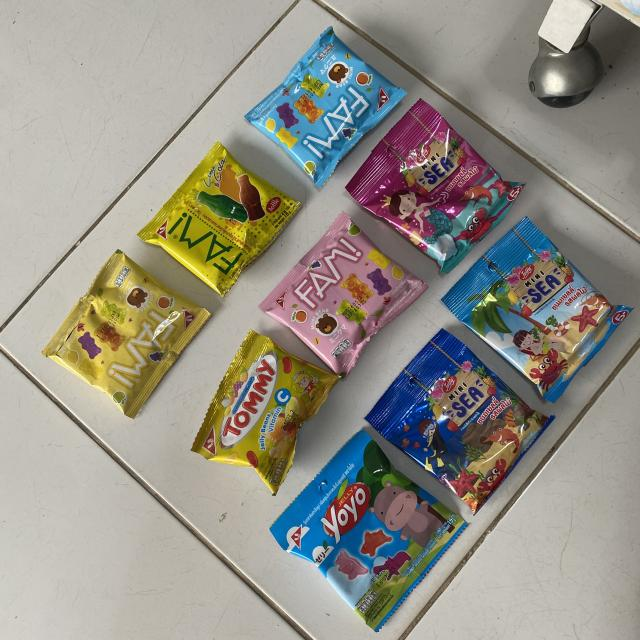plastik: (270, 430, 466, 631), (442, 218, 632, 402), (366, 329, 554, 514), (346, 99, 525, 274), (42, 250, 210, 419), (259, 212, 428, 376), (245, 26, 405, 186), (138, 142, 301, 296), (191, 330, 341, 495)
